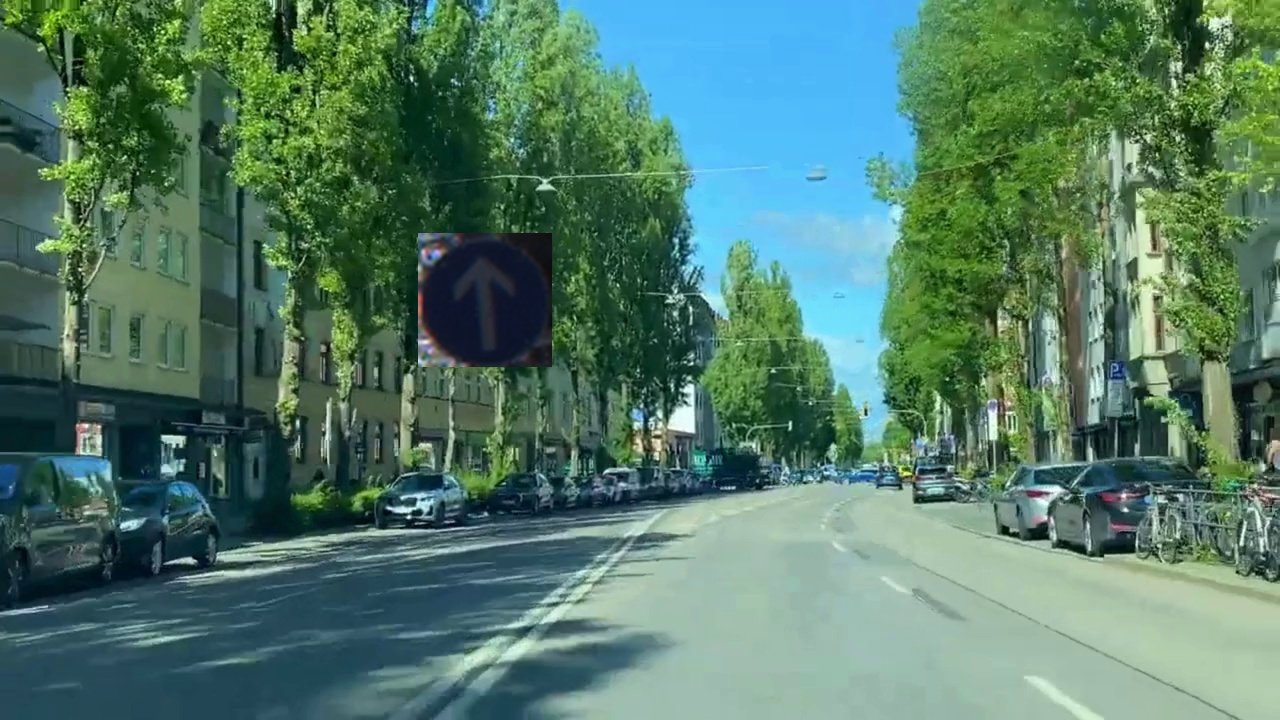Ahead only: (418, 233, 552, 367)
